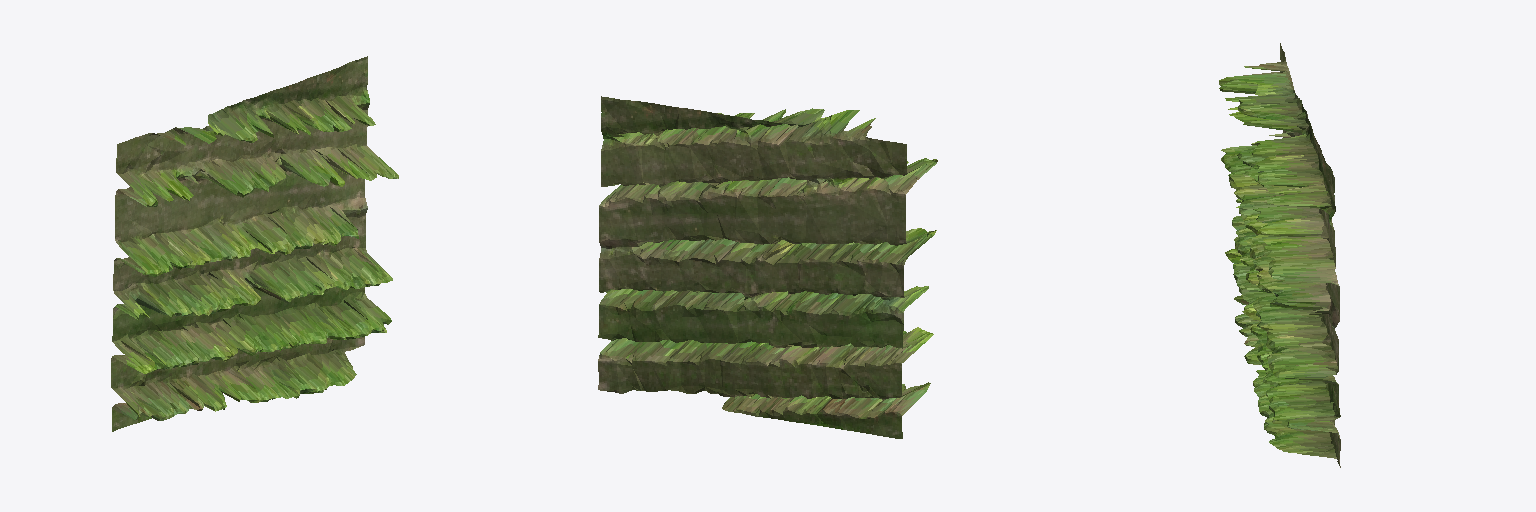
3 views of the same model, side by side, from view 1: azimuth 30°, elevation 25°; view 2: azimuth 150°, elevation 25°; view 3: azimuth 270°, elevation 25° (orthographic).
Visible parts, largest first — view 1: grp1; view 2: grp1; view 3: grp1.
Part boxes in pixels (x1,y1,x2,y2): grp1: (111, 56, 398, 431); grp1: (598, 96, 937, 438); grp1: (1219, 43, 1340, 467).
Size of the model in its own units: 10 by 10 by 3.81.
1 materials, 1 textured.